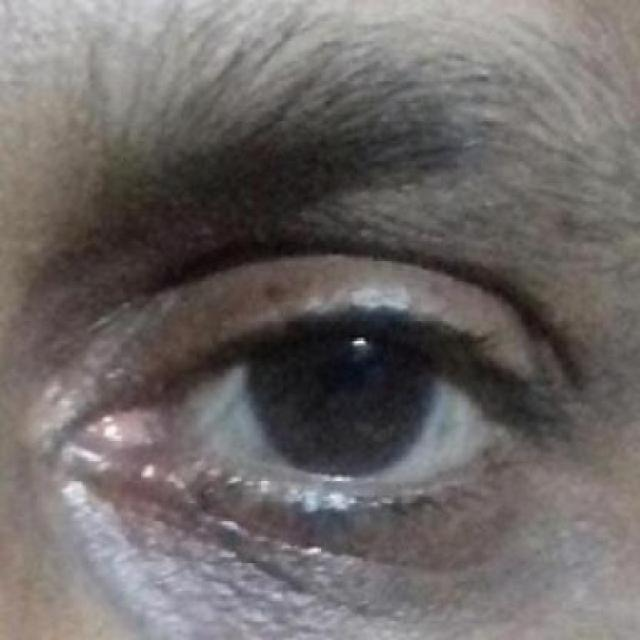awake: (102, 322, 506, 493)
